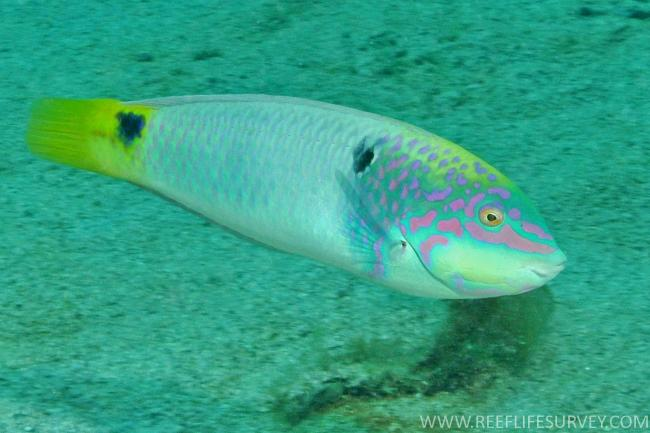fish: (26, 93, 567, 300)
